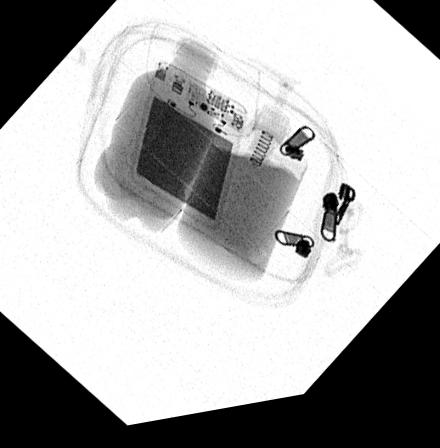Powerbank: (125, 67, 248, 237)
